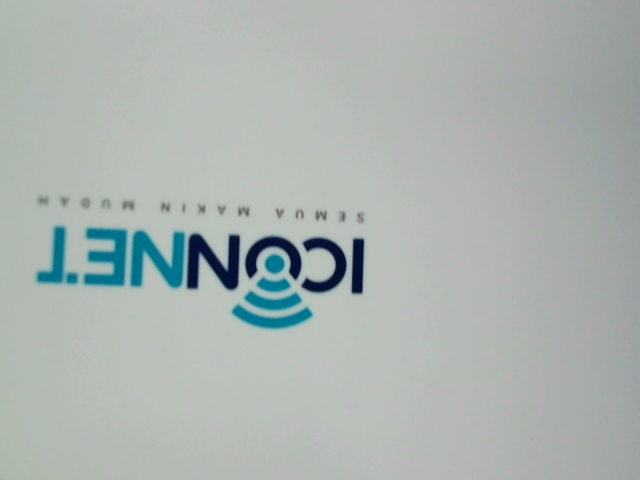BM_ICONNET: (17, 180, 397, 342)
